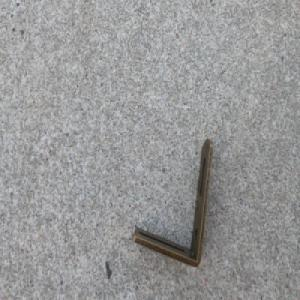MetalPart: (132, 137, 214, 268)
